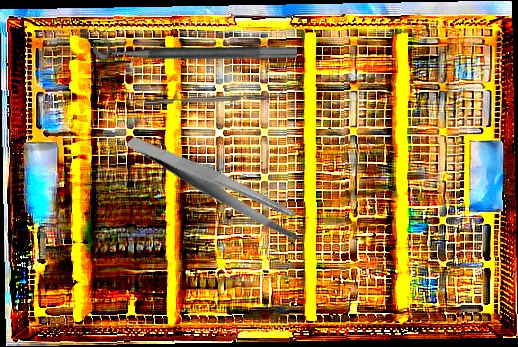Chopper: (144, 88, 286, 105)
Dressing Forceps: (125, 96, 310, 275)
Fixation Ring: (93, 28, 297, 60)
